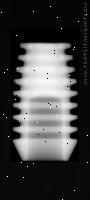Bicon: (9, 29, 80, 162)
